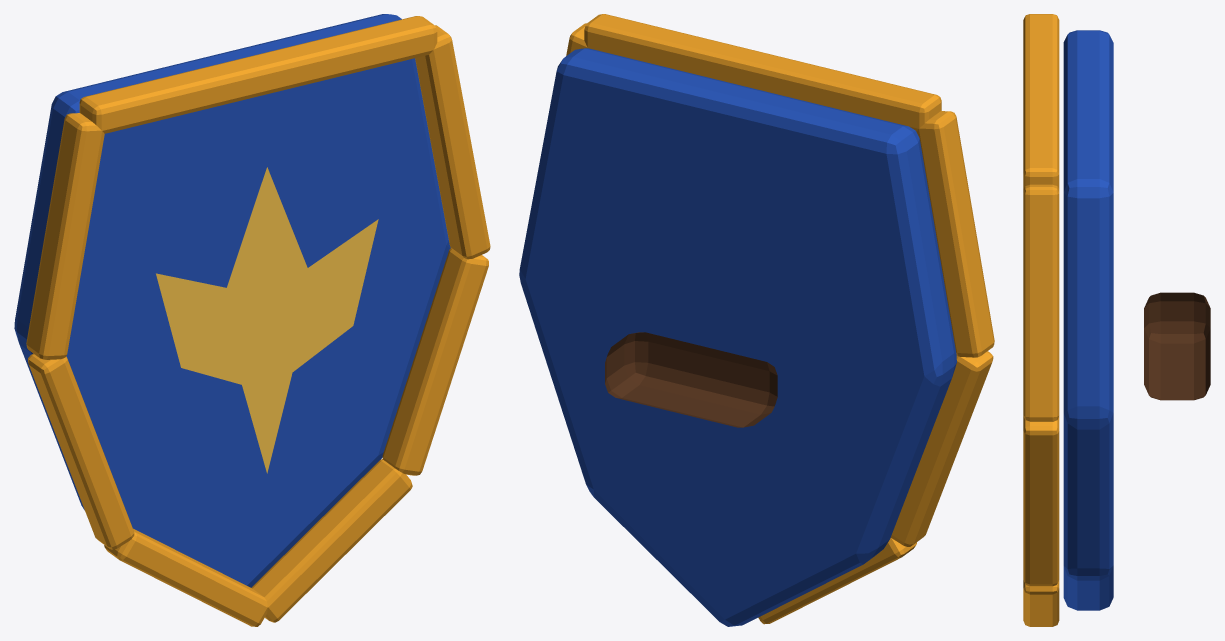
File: shield.glb
The picture shows the model from 3 angles, left to right: view 1: azimuth 30°, elevation 25°; view 2: azimuth 150°, elevation 25°; view 3: azimuth 270°, elevation 25°; orthographic projection. The views are drawn at different scales.
Visible parts, largest first — view 1: Shield blue field, Shield gold heraldry, Shield gold rim, Shield gold rim.006, Shield gold rim.002, Shield gold rim.001, Shield gold rim.003, Shield gold rim.005, Shield gold rim.004; view 2: Shield blue field, Shield gold rim, Shield hand grip, Shield gold rim.006, Shield gold rim.005, Shield gold rim.004; view 3: Shield blue field, Shield gold rim.001, Shield hand grip, Shield gold rim, Shield gold rim.002, Shield gold rim.003.
Boxes of the visible parts, box(x1,y1,x2,y2) form: Shield blue field: box(14, 14, 450, 587); Shield gold heraldry: box(156, 167, 378, 473); Shield gold rim: box(79, 16, 437, 133); Shield gold rim.006: box(26, 113, 104, 359); Shield gold rim.002: box(382, 248, 488, 475); Shield gold rim.001: box(415, 25, 490, 259); Shield gold rim.003: box(251, 459, 412, 622); Shield gold rim.005: box(28, 353, 134, 549); Shield gold rim.004: box(104, 528, 267, 626); Shield blue field: box(519, 48, 956, 626); Shield gold rim: box(584, 14, 941, 131); Shield hand grip: box(605, 332, 777, 427); Shield gold rim.006: box(916, 111, 994, 357); Shield gold rim.005: box(891, 351, 993, 546); Shield gold rim.004: box(758, 538, 916, 624); Shield blue field: box(1063, 30, 1113, 610); Shield gold rim.001: box(1023, 184, 1059, 421); Shield hand grip: box(1144, 292, 1210, 400); Shield gold rim: box(1023, 14, 1059, 188); Shield gold rim.002: box(1023, 417, 1059, 586); Shield gold rim.003: box(1023, 580, 1059, 626).
Bounding box in the file's own units: 0.8897 × 1.05 × 0.3375.
